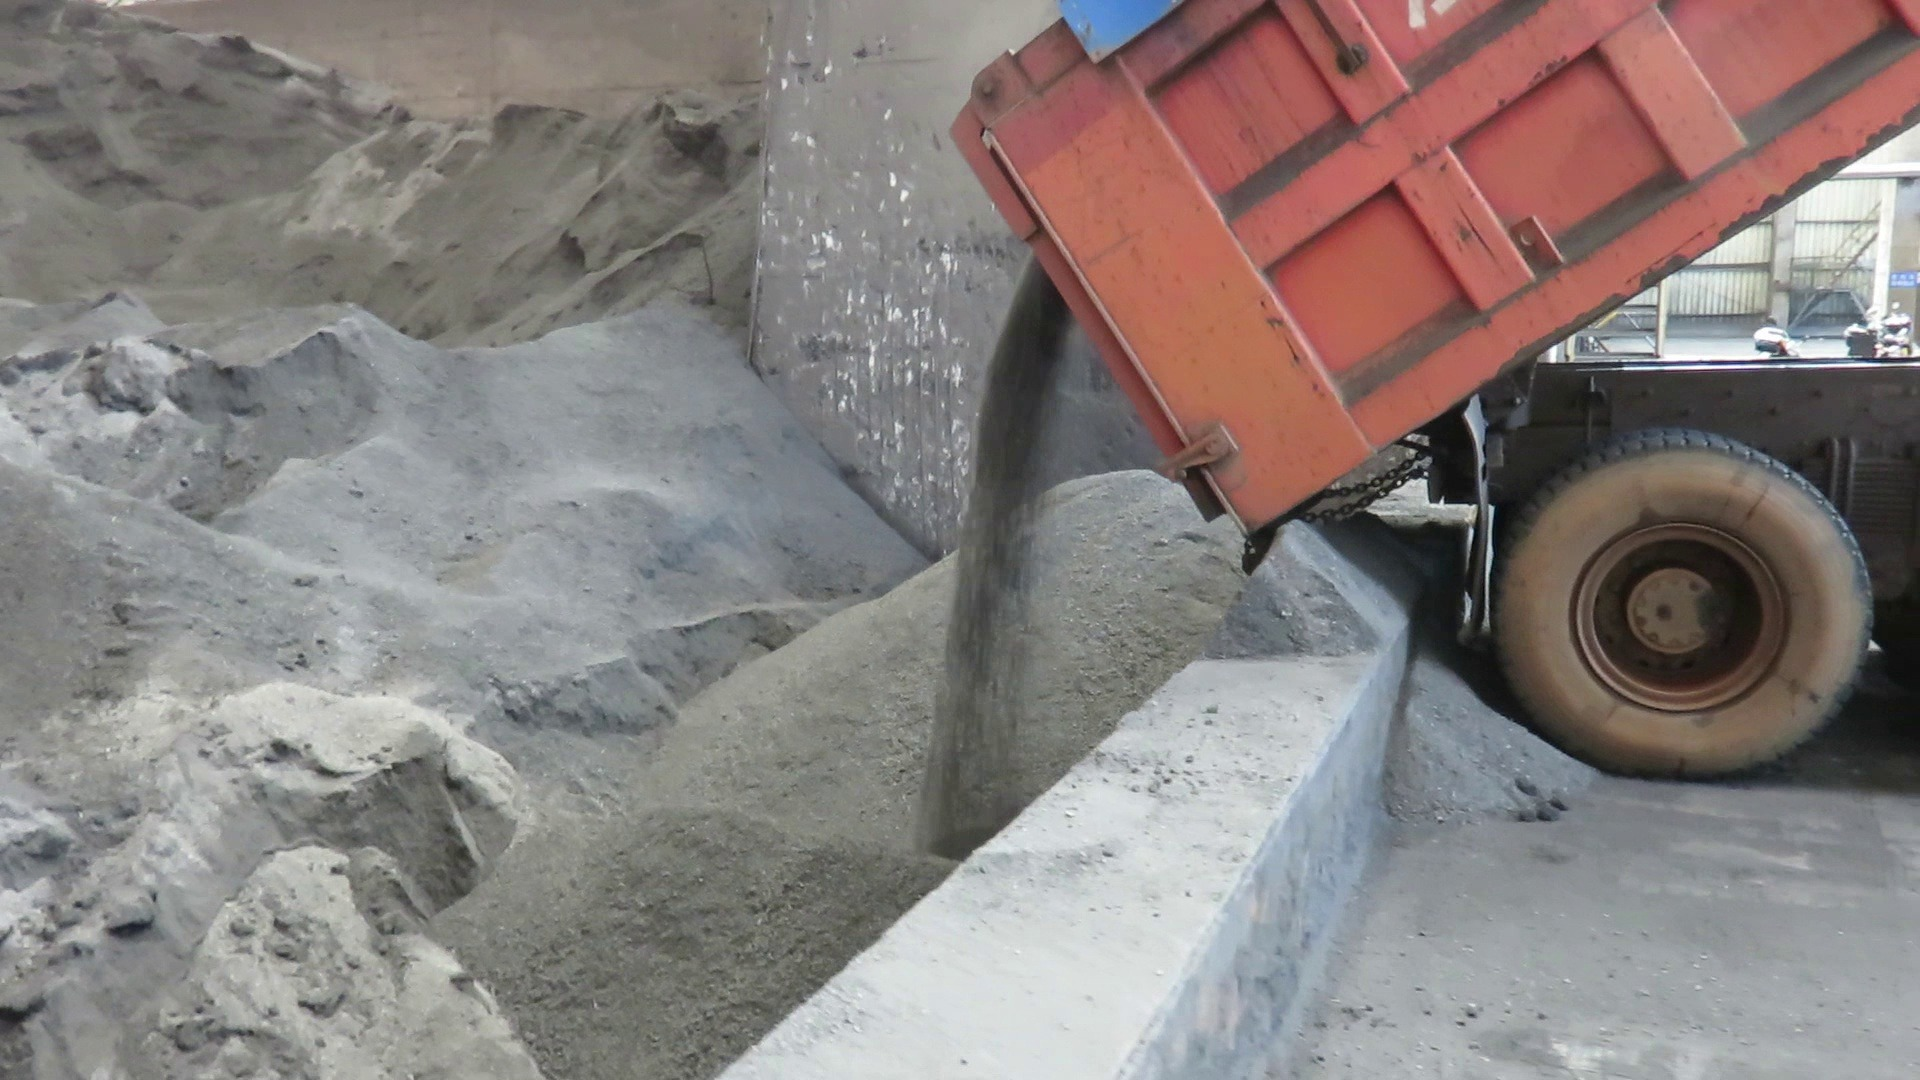dust: (938, 0, 1055, 96)
truck: (891, 0, 1920, 810)
